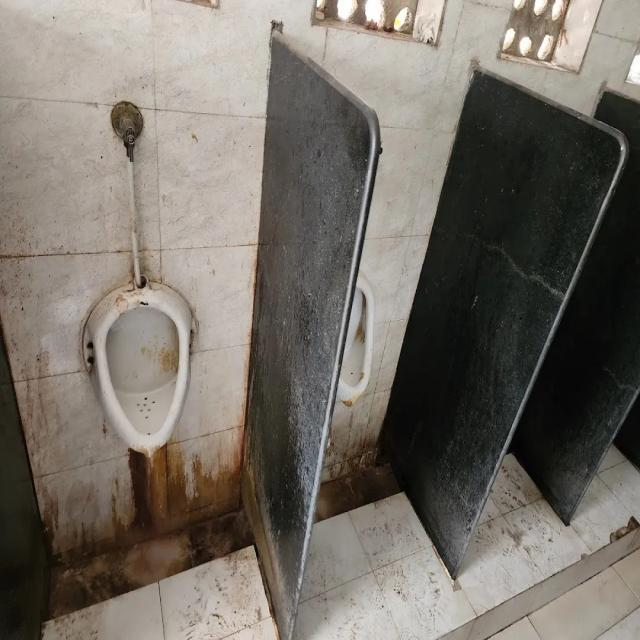dirty_floor: (1, 1, 637, 632), (374, 61, 629, 580), (39, 440, 637, 638), (236, 26, 383, 636)
